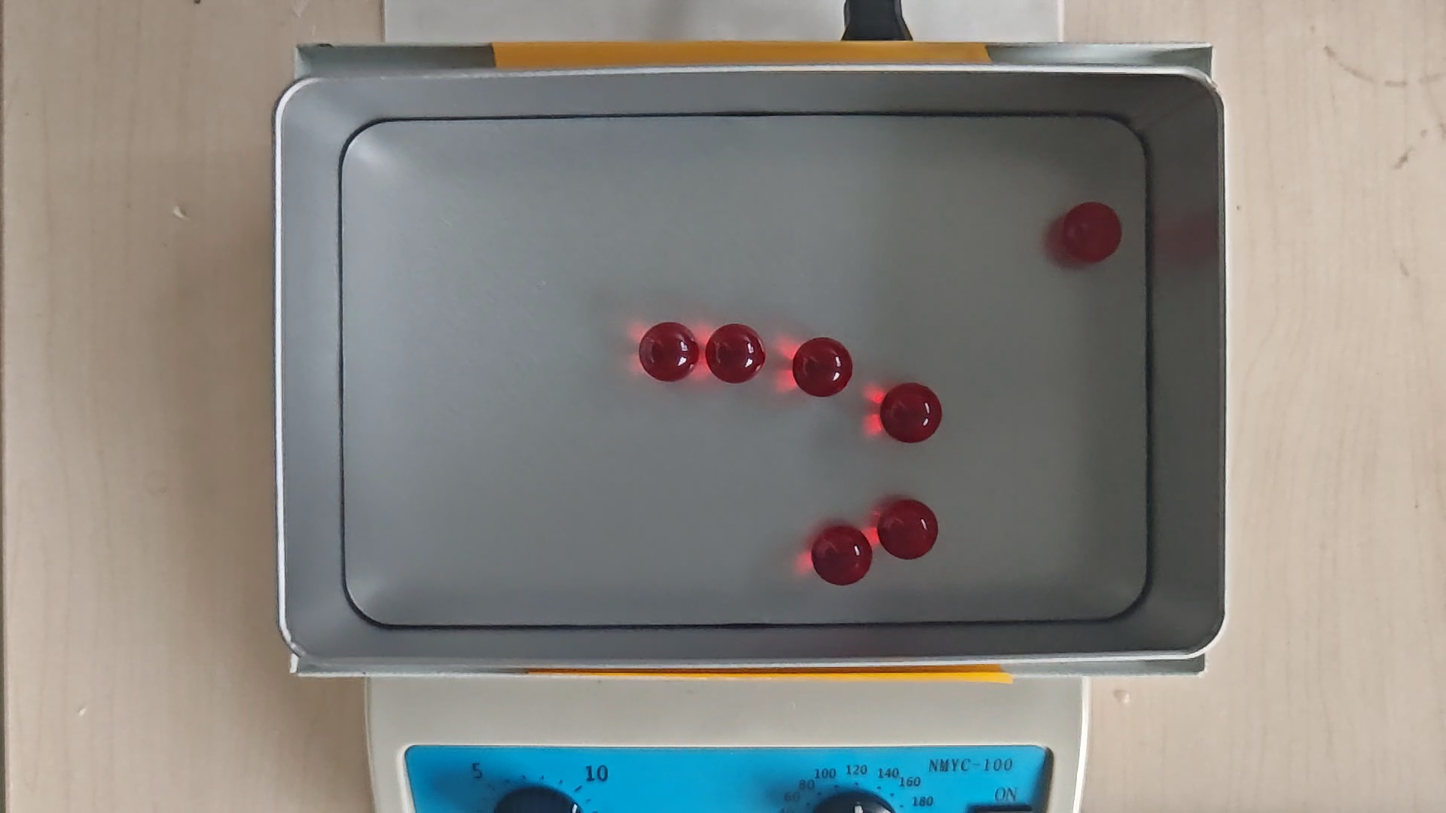ball: (877, 498, 939, 561), (706, 323, 767, 383), (792, 337, 853, 397), (882, 382, 941, 444), (639, 319, 697, 382), (813, 525, 872, 586), (1064, 202, 1121, 260)
container: (338, 111, 1150, 626)
